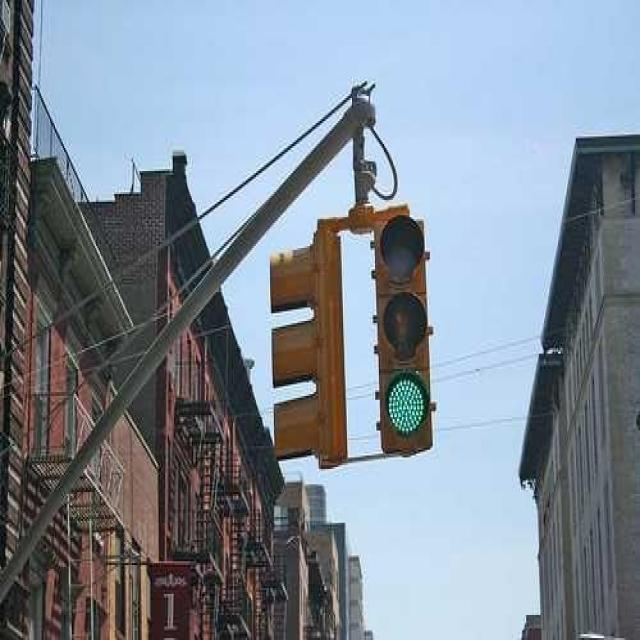Traffic Light -Green-: (362, 196, 437, 454)
